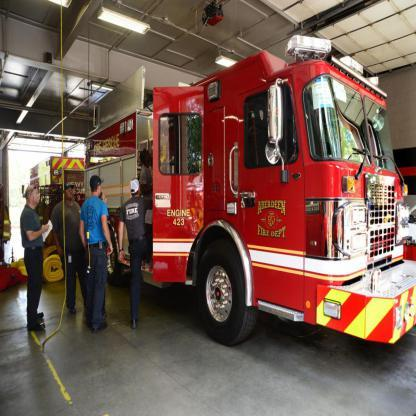fire-truck: (76, 20, 416, 415)
